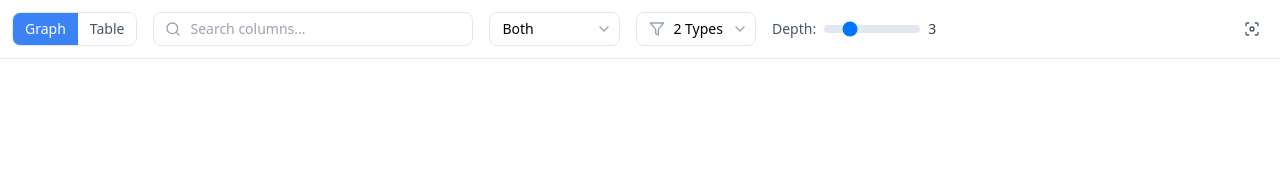
Scenario: Toolbar › TC-COMP-019a: Asset Type Filter Dropdown › checkboxes reflect current filter state
Click the button with test id "asset-type-filter-btn". click: (696, 29)
box: [636,12,756,46]
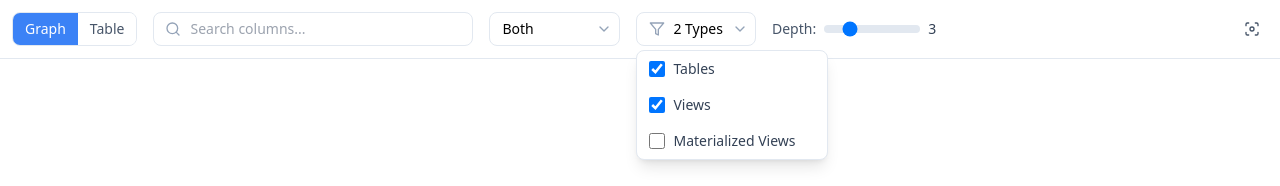
Expected: the checkbox with test id "filter-tables-checkbox" is checked, [650,61,666,77]
Expected: the checkbox with test id "filter-views-checkbox" is checked, [650,97,666,113]
Expected: the checkbox with test id "filter-materialized-views-checkbox" is not checked, [650,133,666,149]
